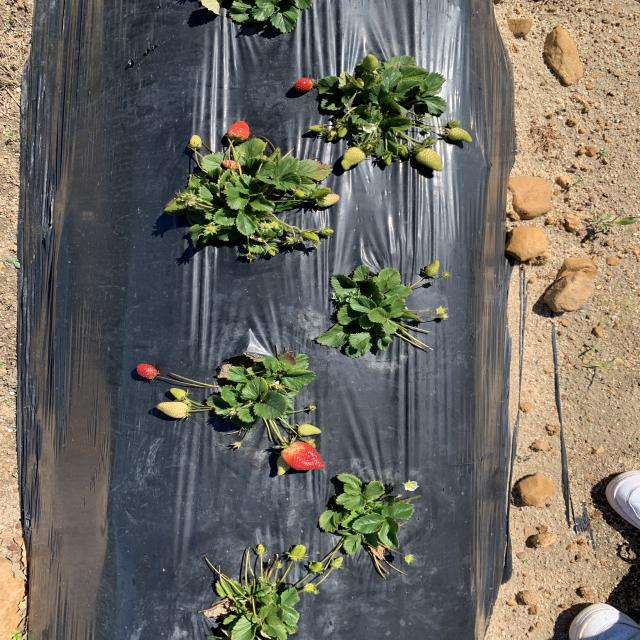unripe: (280, 444, 328, 472), (229, 120, 252, 142), (135, 362, 159, 380), (293, 77, 315, 92)
